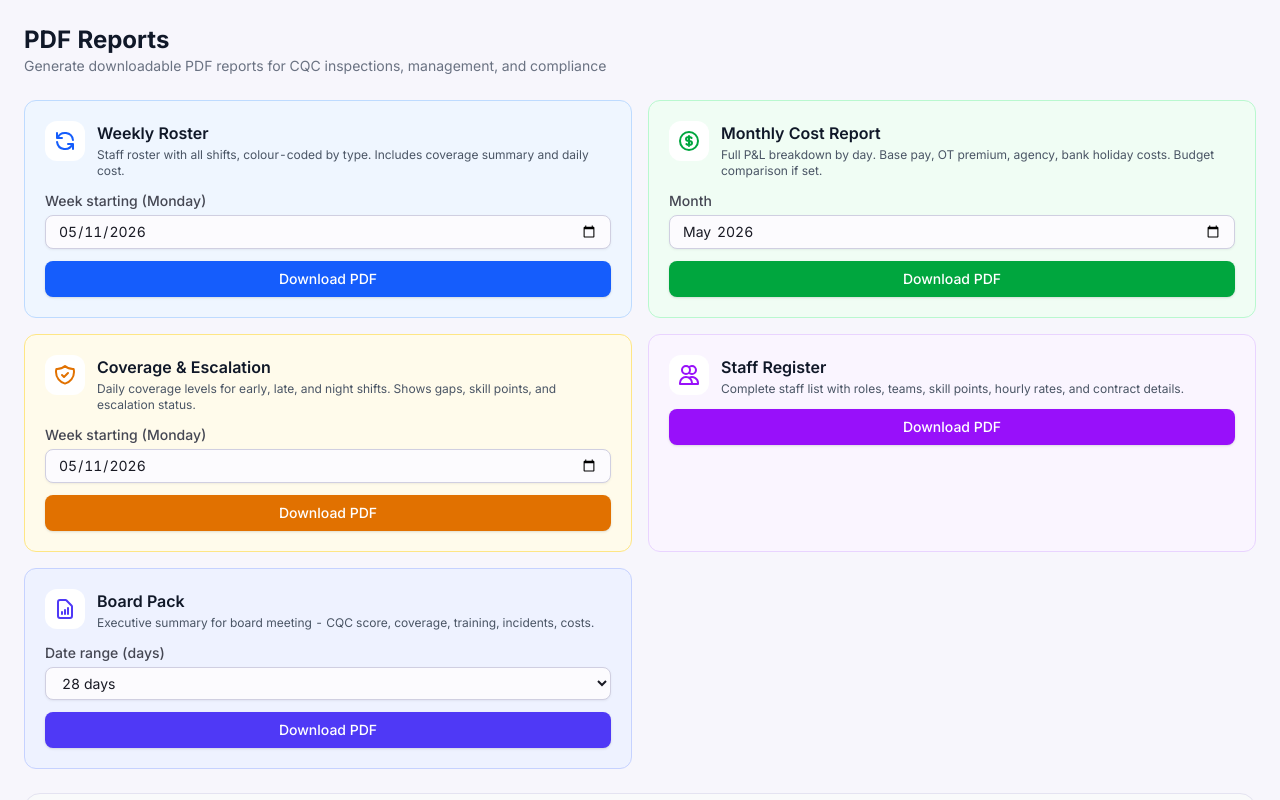
Test case: Reports › disables date-based downloads when the date is cleared
Expected: the heading "PDF Reports" is shown, [24,25,169,54]
Clear the date field labelled "Week starting (Monday)" below "Weekly Roster": {"x": 328, "y": 232} [45,215,611,249]
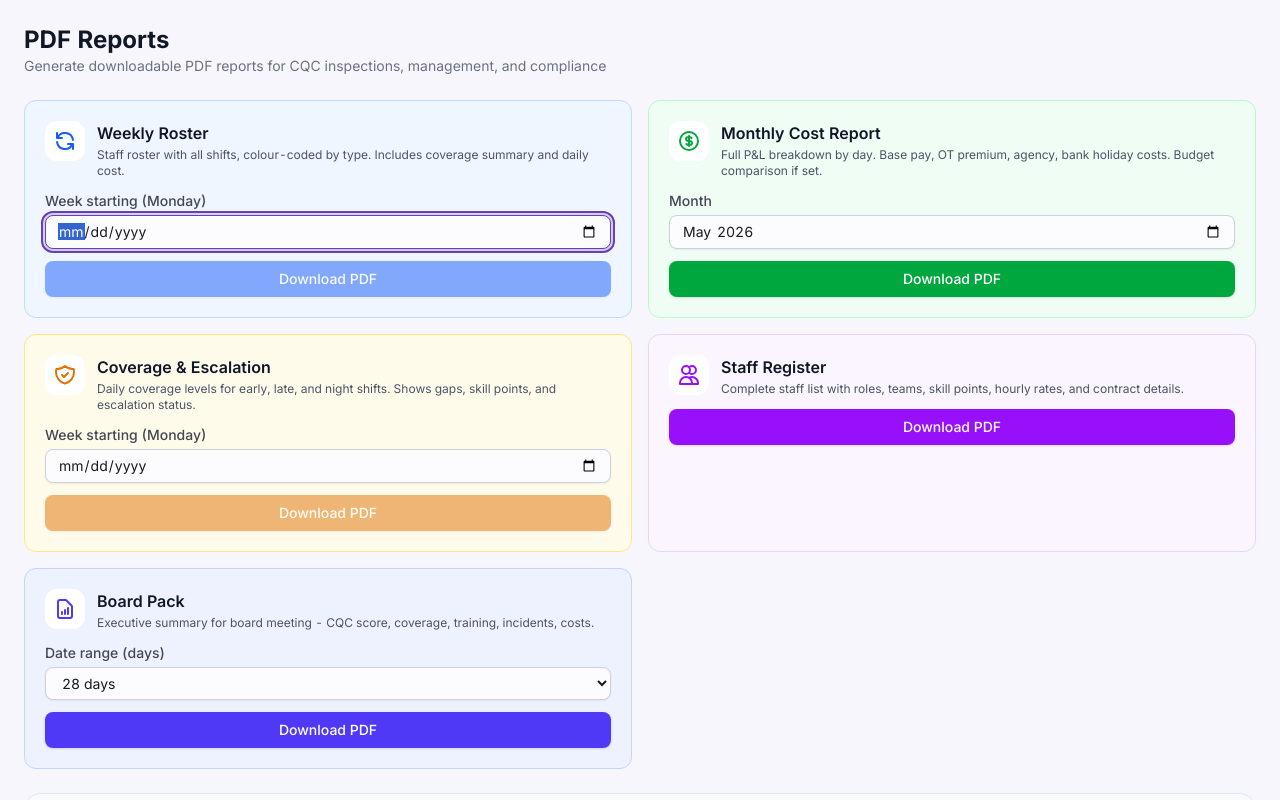
Expected: the button "Download PDF" below "Weekly Roster" is disabled, [45,261,611,297]
Expected: the button "Download PDF" below "Coverage & Escalation" is disabled, [45,495,611,531]
